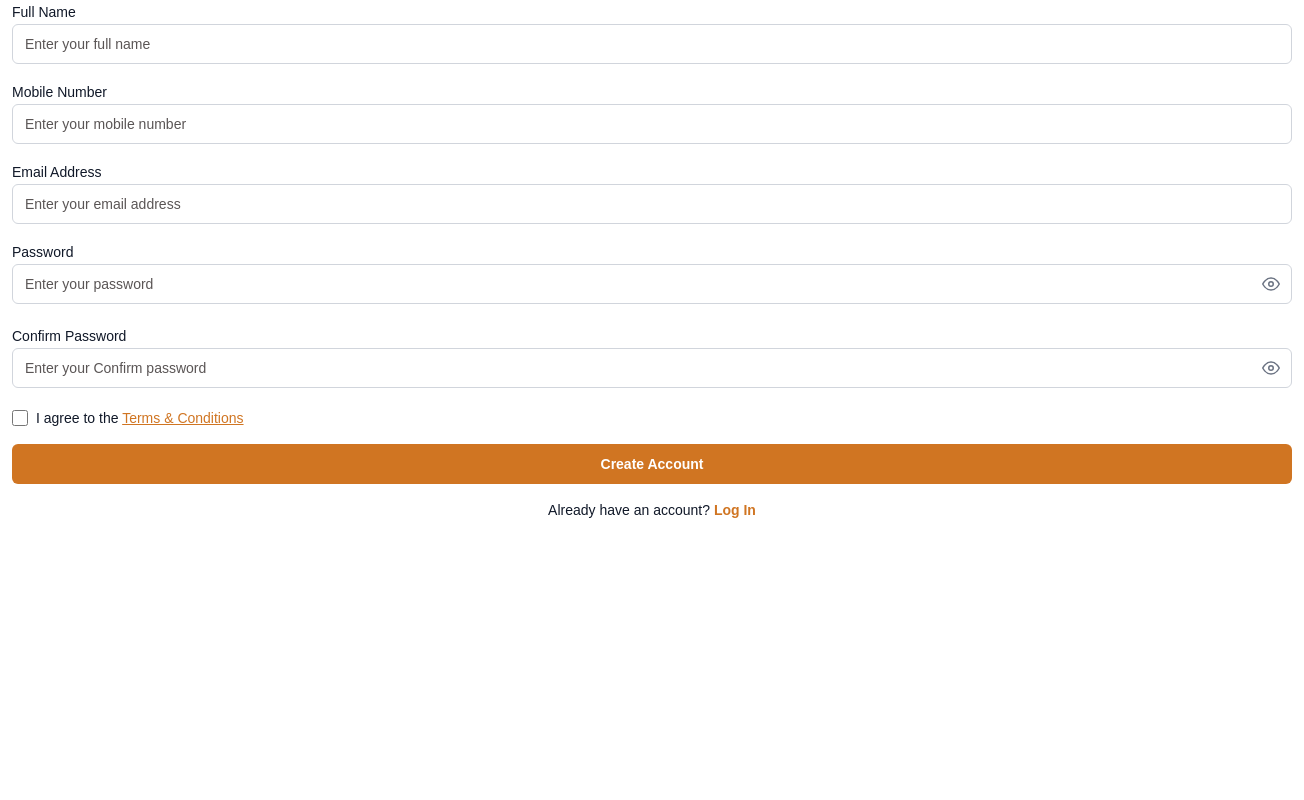
Test case: RegisterForm › shows validation errors on empty submit
This screenshot has width=1304, height=800.
Click the button "Create Account" at [652, 464], box [12,444,1292,484]
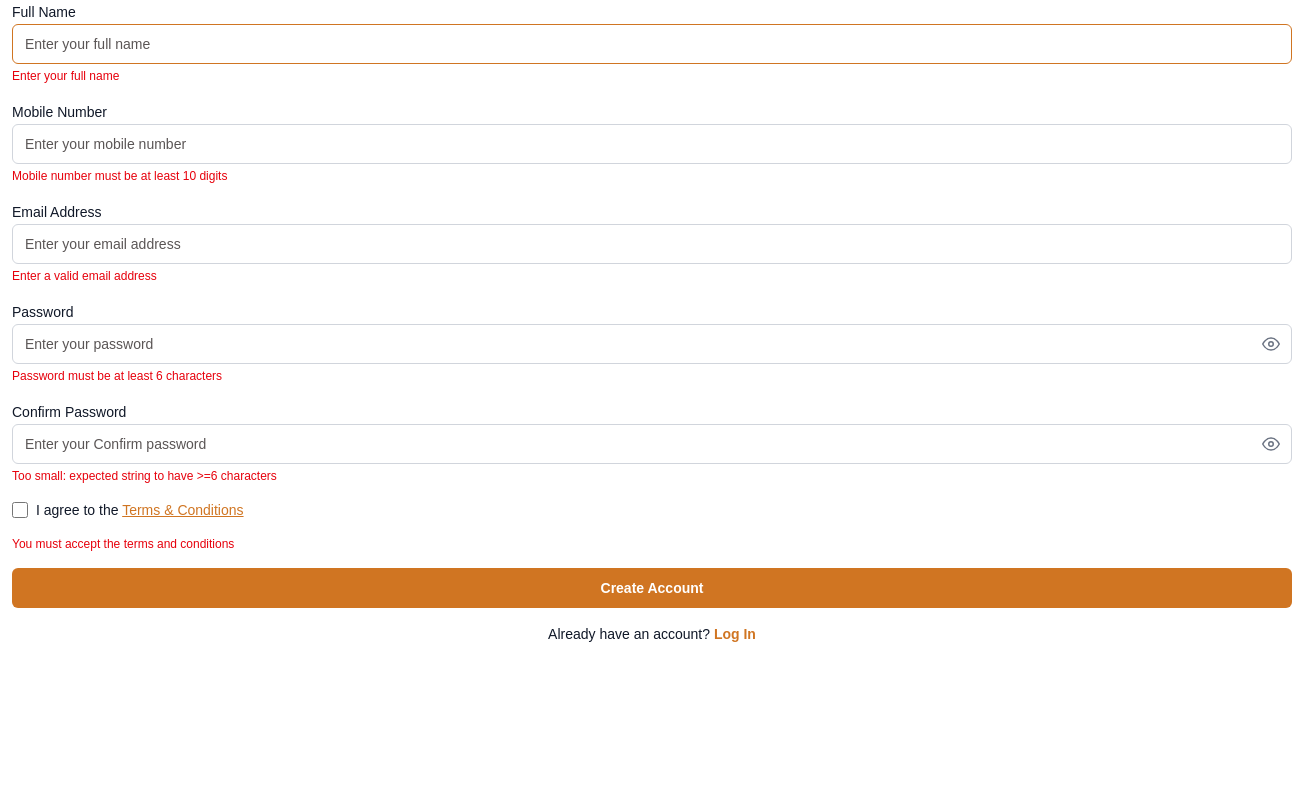
Now the text "Enter your full name" is shown, box [12,69,119,83]
Now the text "Mobile number must be at least 10 digits" is shown, box [12,169,228,183]
Now the text "Enter a valid email address" is shown, box [12,269,157,283]
